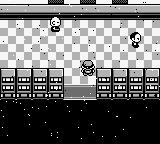main: (81, 61, 95, 75)
no-caminable: (1, 101, 160, 143), (1, 5, 159, 20), (97, 69, 160, 99), (1, 69, 63, 99), (48, 0, 64, 4)
npc: (130, 33, 142, 48), (50, 17, 62, 32)
puerta: (64, 86, 96, 100), (112, 0, 128, 4), (80, 0, 96, 4), (48, 0, 64, 4)
